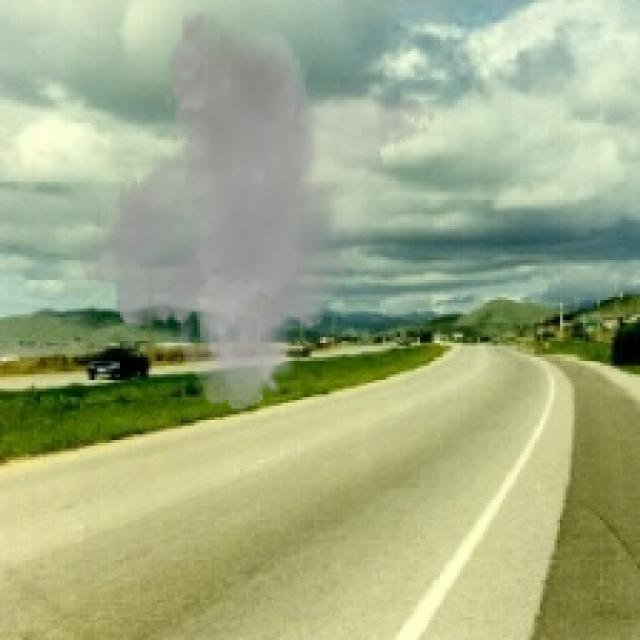Smoke: (69, 9, 438, 412)
